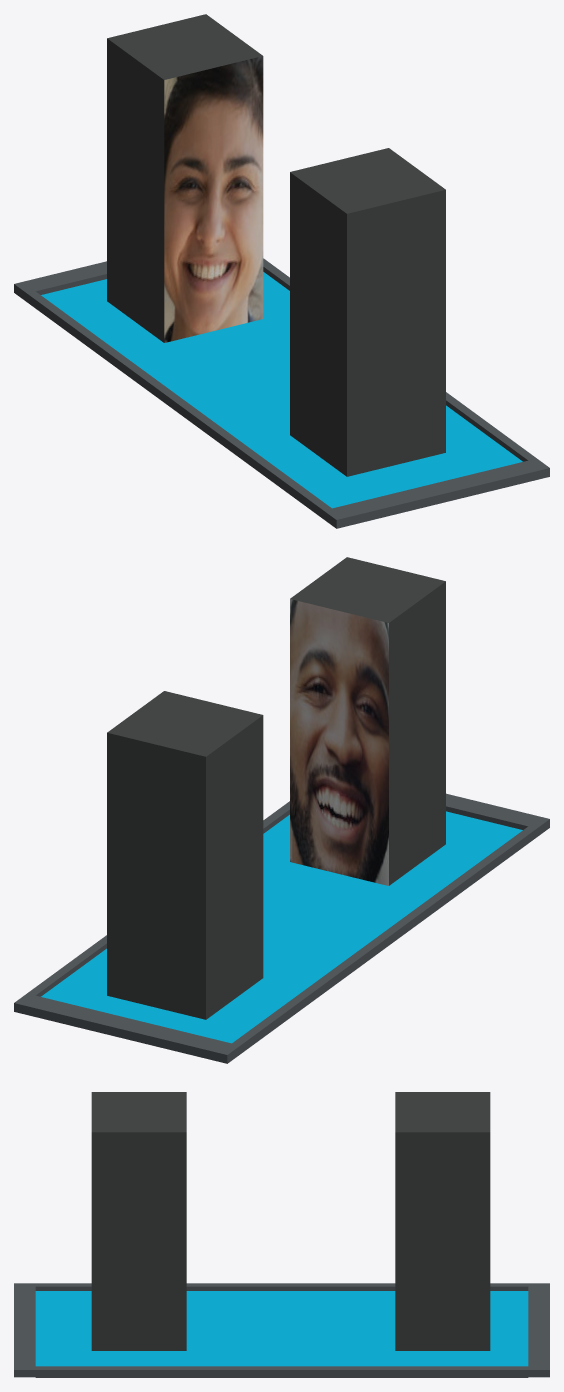
Rendered from CrownFountain.fbx.
3 views of the same model, one above another, from view 1: azimuth 30°, elevation 25°; view 2: azimuth 150°, elevation 25°; view 3: azimuth 270°, elevation 25° (orthographic). The views are drawn at different scales.
Visible parts, largest first — view 1: Cube.001, Cube.002, Cube; view 2: Cube.001, Cube.002, Cube; view 3: Cube, Cube.001, Cube.002.
Part boxes in pixels (bbox=[...]): Cube.001: bbox=[107, 14, 263, 342]; Cube.002: bbox=[290, 148, 445, 476]; Cube: bbox=[14, 258, 549, 528]; Cube.001: bbox=[107, 691, 263, 1019]; Cube.002: bbox=[290, 557, 445, 885]; Cube: bbox=[14, 793, 549, 1063]; Cube: bbox=[14, 1283, 549, 1377]; Cube.001: bbox=[395, 1092, 490, 1350]; Cube.002: bbox=[91, 1092, 186, 1350].
Size of the model in its own units: 431 by 525 by 1128.
